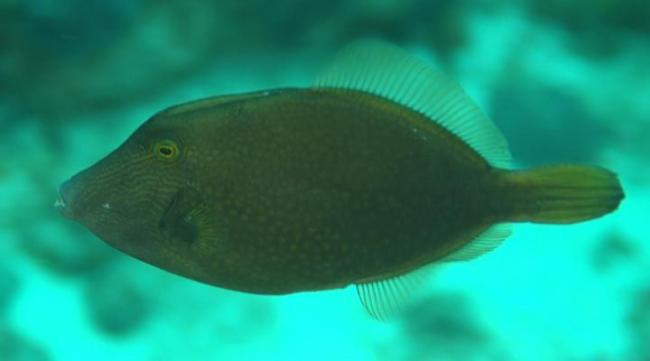fish: (53, 44, 626, 319)
